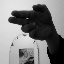h: (6, 3, 55, 38)
